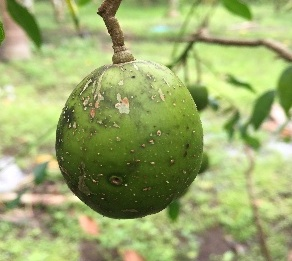Coc: (53, 64, 214, 218)
